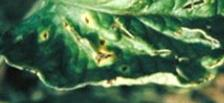Tomato Septoria leaf spot: (0, 0, 224, 95)
